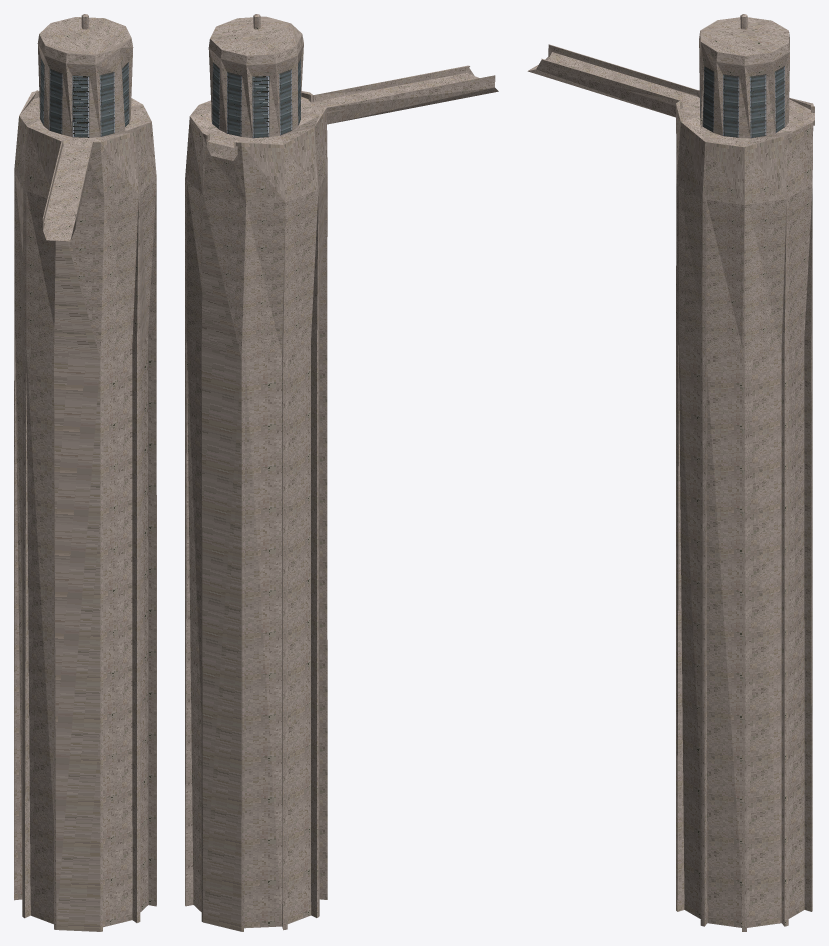
The model's file is lod_dam_turbine_3.obj.
3 renders of one model, left to right at view 1: azimuth 30°, elevation 25°; view 2: azimuth 150°, elevation 25°; view 3: azimuth 270°, elevation 25°, orthographic.
Visible parts, largest first — view 1: lod_dam_turbine_3; view 2: lod_dam_turbine_3; view 3: lod_dam_turbine_3.
Part boxes in pixels (<box>): lod_dam_turbine_3: <box>14,14,156,931</box>; lod_dam_turbine_3: <box>185,14,498,931</box>; lod_dam_turbine_3: <box>527,14,814,931</box>.
Bounding box in the file's own units: 30.72 × 129 × 37.77.
Materials: 2 (2 with a texture image).
